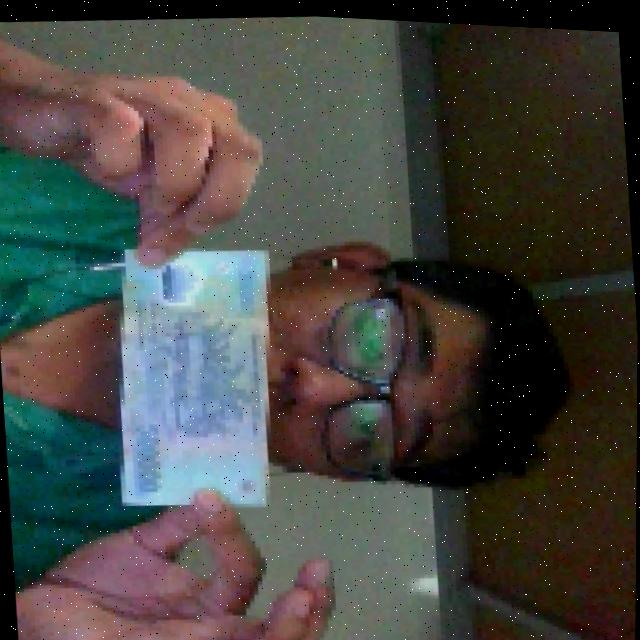500 000 VND: (95, 229, 290, 519)
